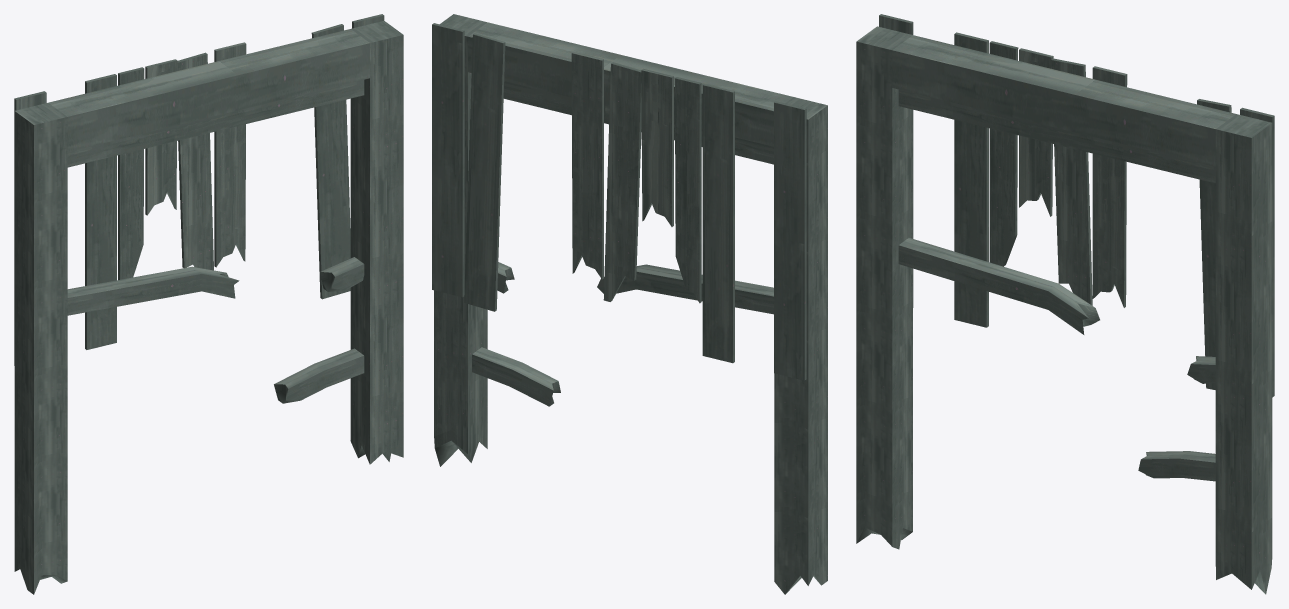
Rendered from SM_ENV_KNFRST_WoodFoundation_C.FBX.
The picture shows the model from 3 angles, left to right: view 1: azimuth 30°, elevation 25°; view 2: azimuth 150°, elevation 25°; view 3: azimuth 330°, elevation 25°; orthographic projection. The views are drawn at different scales.
Visible parts, largest first — view 1: SM_ENV_KNFRST_WoodFoundation_C; view 2: SM_ENV_KNFRST_WoodFoundation_C; view 3: SM_ENV_KNFRST_WoodFoundation_C.
Boxes of the visible parts, box(x1,y1,x2,y2) form: SM_ENV_KNFRST_WoodFoundation_C: box(14, 14, 403, 594); SM_ENV_KNFRST_WoodFoundation_C: box(432, 14, 827, 594); SM_ENV_KNFRST_WoodFoundation_C: box(856, 14, 1274, 594).
Bounding box in the file's own units: 1100 × 1381 × 110.
